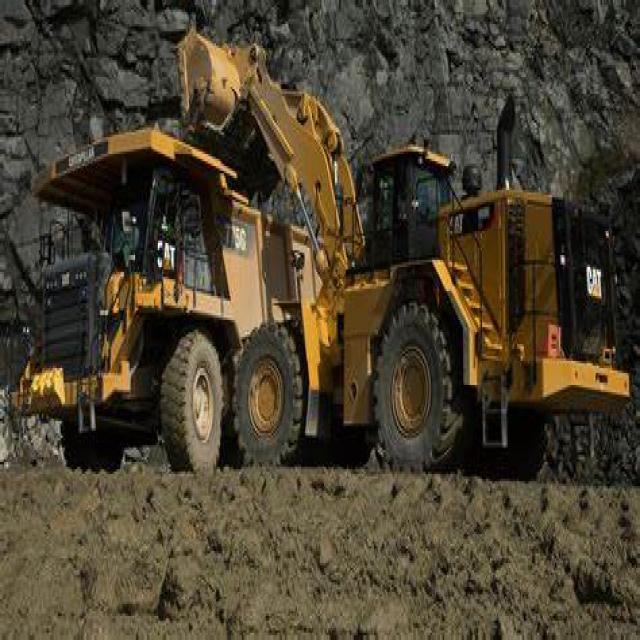buldozerpayloadergrader: (172, 17, 638, 488)
dump_truck: (16, 122, 277, 508)
